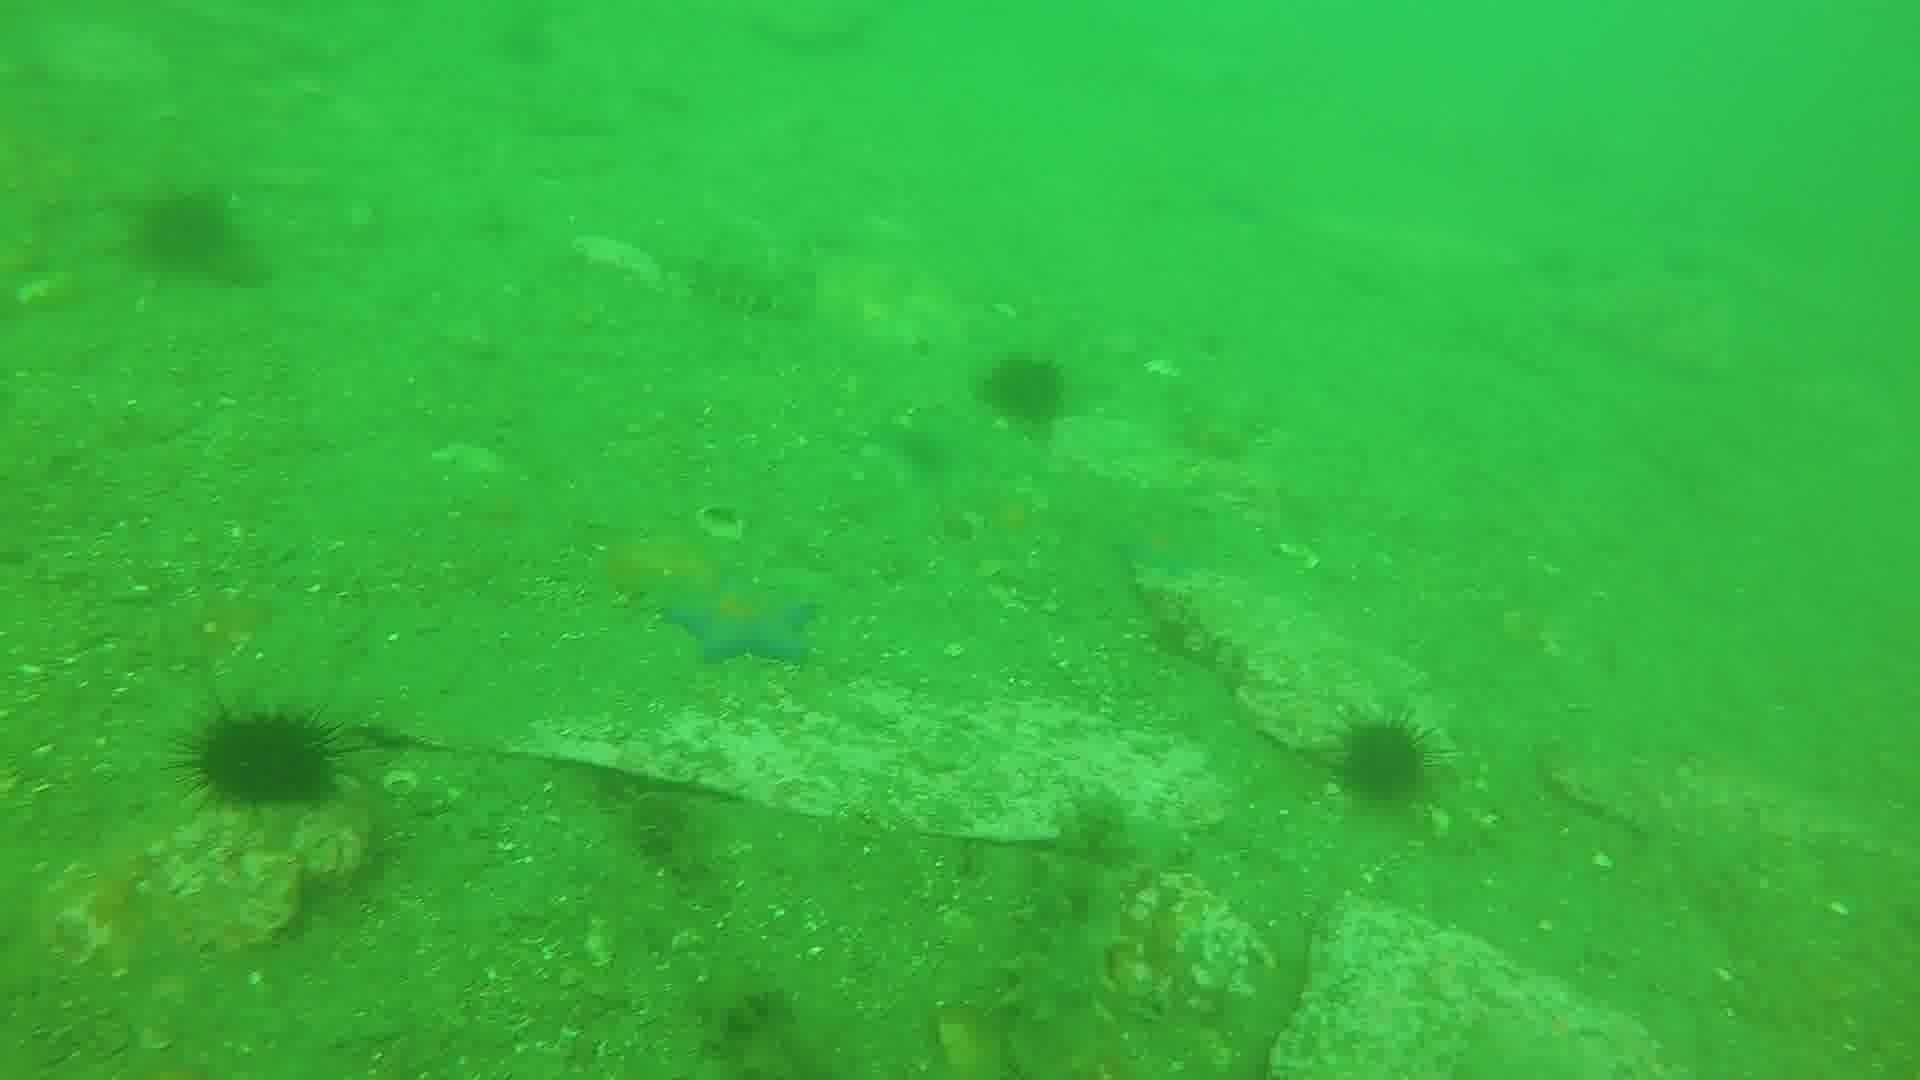echinus: (178, 702, 345, 818), (1329, 709, 1441, 811), (131, 189, 239, 280), (977, 349, 1073, 433)
holothurian: (996, 793, 1149, 1077), (665, 243, 818, 323)
starfish: (659, 568, 822, 671), (607, 520, 744, 618), (1112, 505, 1226, 584)
